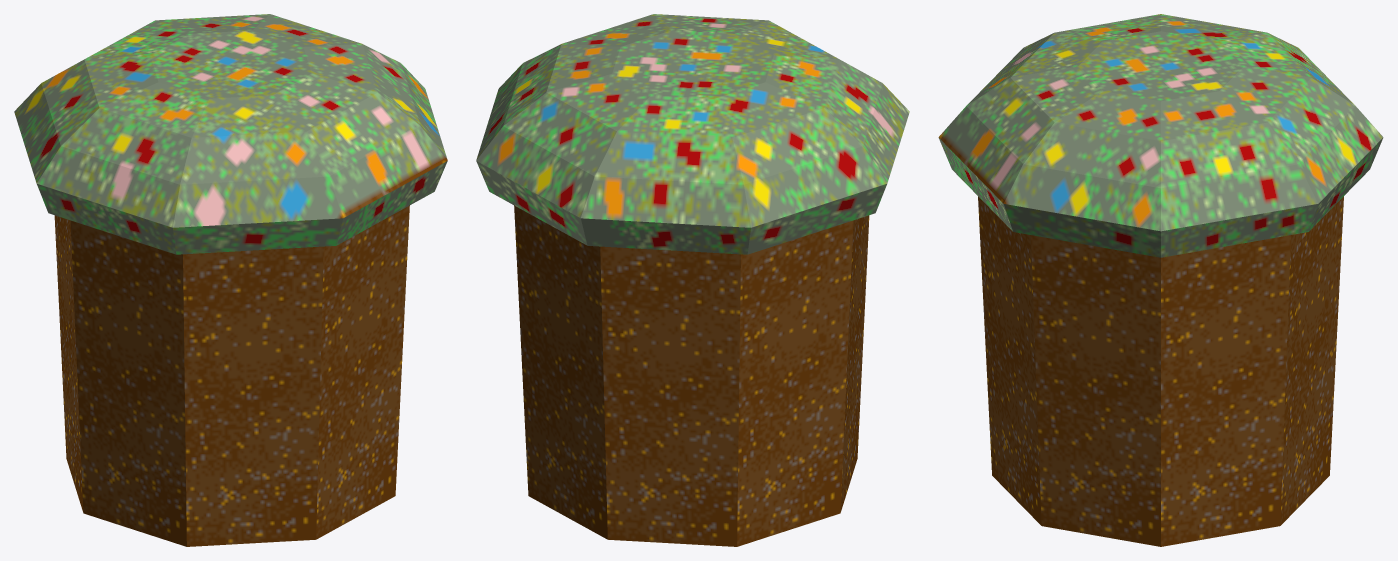
File: eastercake.glb
The picture shows the model from 3 angles, left to right: view 1: azimuth 30°, elevation 25°; view 2: azimuth 150°, elevation 25°; view 3: azimuth 270°, elevation 25°; orthographic projection.
Visible parts, largest first — view 1: Cylinder; view 2: Cylinder; view 3: Cylinder.
Boxes of the visible parts, <box> form: Cylinder: <box>14,14,447,546</box>; Cylinder: <box>476,14,909,546</box>; Cylinder: <box>938,14,1383,546</box>.
Bounding box in the file's own units: 0.2636 × 0.2674 × 0.2636.
Materials: 1 (1 with a texture image).
